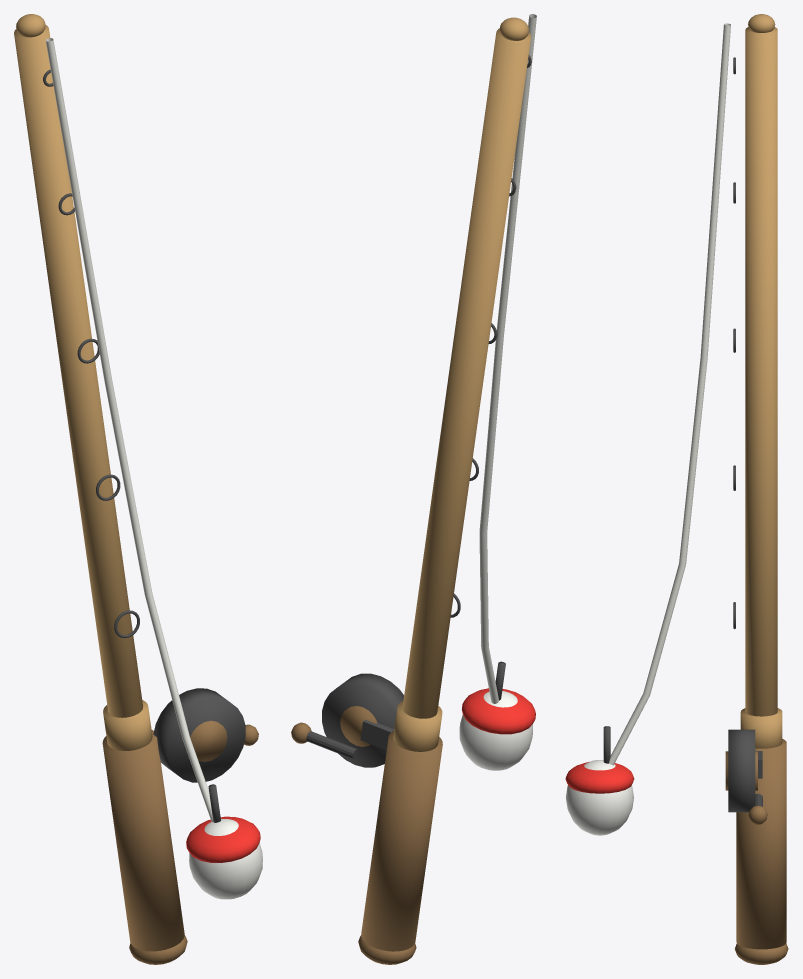
The model's file is woodenrodmk3.fbx.
3 renders of one model, left to right at view 1: azimuth 30°, elevation 25°; view 2: azimuth 150°, elevation 25°; view 3: azimuth 270°, elevation 25°, orthographic. The views are drawn at different scales.
Parts seen in each view (by area): view 1: One_Piece_Rounded_Fishing_Rod_With_Thick_Line_And_Bobber; view 2: One_Piece_Rounded_Fishing_Rod_With_Thick_Line_And_Bobber; view 3: One_Piece_Rounded_Fishing_Rod_With_Thick_Line_And_Bobber.
Part boxes in pixels (box(x1,y1,x2,y2)): One_Piece_Rounded_Fishing_Rod_With_Thick_Line_And_Bobber: box(14, 14, 262, 964); One_Piece_Rounded_Fishing_Rod_With_Thick_Line_And_Bobber: box(291, 14, 536, 964); One_Piece_Rounded_Fishing_Rod_With_Thick_Line_And_Bobber: box(565, 14, 788, 964).
Size of the model in its own units: 70.22 by 273 by 62.1.
